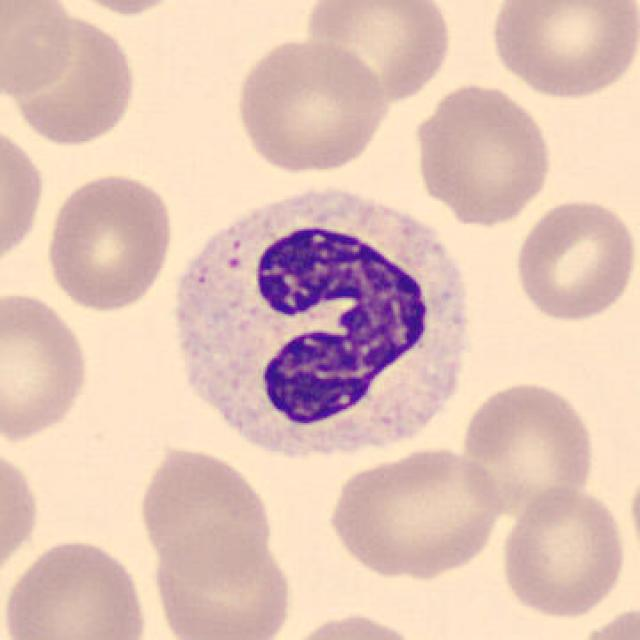Neutrophil: (158, 176, 480, 478)
RBC: (324, 443, 508, 580), (231, 36, 391, 176), (409, 79, 556, 226), (134, 441, 278, 585), (457, 378, 599, 518), (41, 169, 176, 314), (4, 7, 140, 148), (496, 481, 629, 621), (147, 527, 297, 640), (302, 0, 455, 106), (0, 534, 153, 640), (511, 196, 636, 324), (485, 0, 638, 102), (0, 286, 94, 446), (0, 0, 80, 102), (0, 118, 48, 272), (0, 439, 43, 587), (272, 608, 427, 640), (570, 601, 640, 640), (53, 0, 192, 18), (626, 453, 640, 584)
